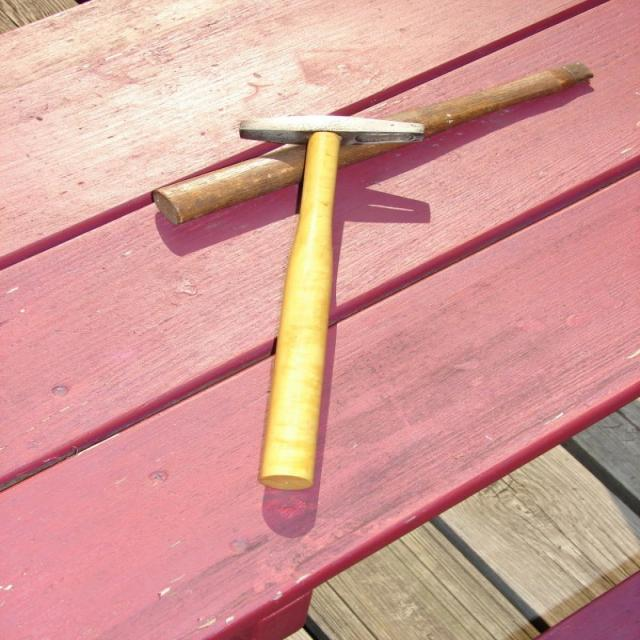hammer: (247, 79, 393, 474)
